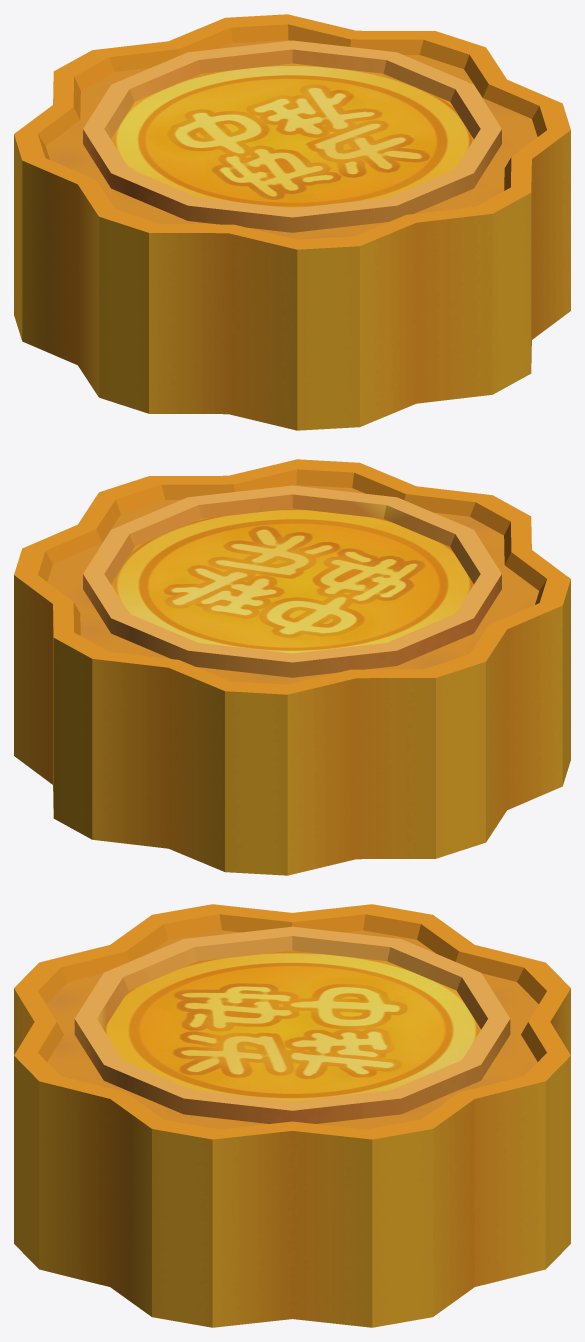
File: YueBing.fbx
The picture shows the model from 3 angles, top to bottom: view 1: azimuth 30°, elevation 25°; view 2: azimuth 150°, elevation 25°; view 3: azimuth 270°, elevation 25°; orthographic projection. The views are drawn at different scales.
Visible parts, largest first — view 1: YueBing; view 2: YueBing; view 3: YueBing.
Part boxes in pixels (<box>): YueBing: <box>14,14,570,430</box>; YueBing: <box>14,459,570,875</box>; YueBing: <box>14,904,570,1327</box>.
Bounding box in the file's own units: 23.9 × 9.06 × 23.9.
